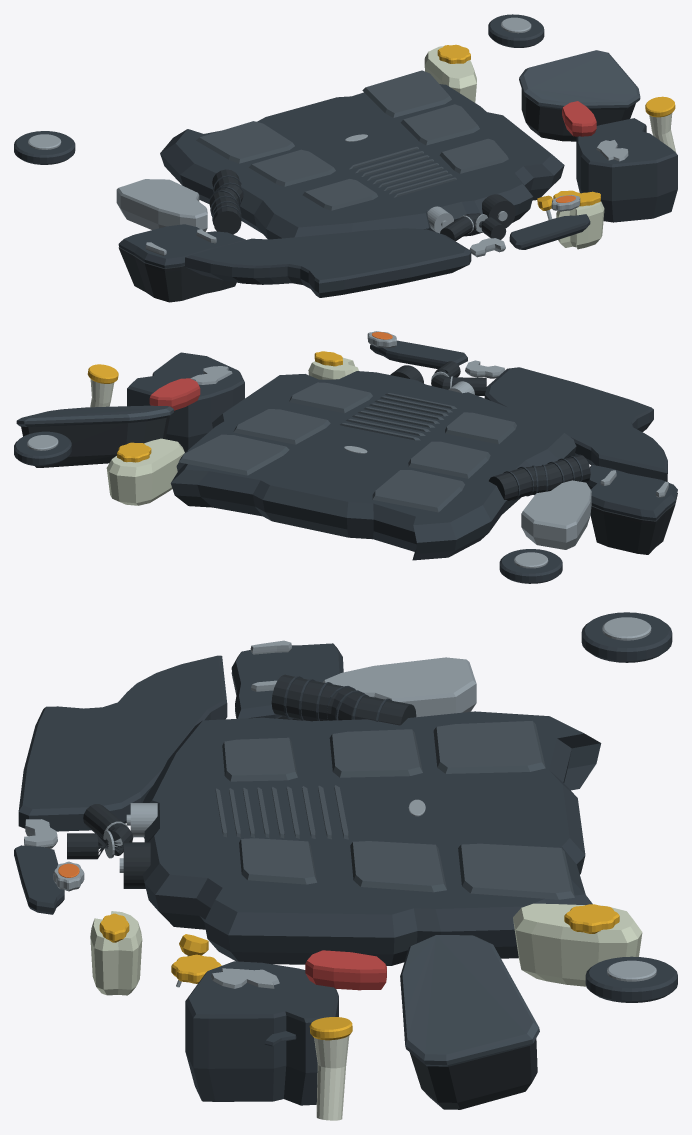
The model's file is outback-ez36.glb.
The picture shows the model from 3 angles, top to bottom: view 1: azimuth 30°, elevation 25°; view 2: azimuth 150°, elevation 25°; view 3: azimuth 270°, elevation 25°; orthographic projection. The views are drawn at different scales.
Visible parts, largest first — view 1: Cubierta del motor, Toma frontal de aire, Batería, Caja de fusibles del motor, Caja del filtro de aire, Unidad hidráulica ABS, Manguito de admisión, Copela delantera derecha, Cubierta del soporte del radiador, Copela delantera izquierda, Depósito de líquido de frenos, Depósito de refrigerante (+8 smaller); view 2: Cubierta del motor, Toma frontal de aire, Caja de fusibles del motor, Caja del filtro de aire, Batería, Unidad hidráulica ABS, Depósito de líquido de frenos, Manguito de admisión, Copela delantera derecha, Copela delantera izquierda, Cubierta del soporte del radiador, Borne positivo (+7 smaller); view 3: Cubierta del motor, Toma frontal de aire, Caja de fusibles del motor, Batería, Depósito de líquido de frenos, Unidad hidráulica ABS, Caja del filtro de aire, Manguito de admisión, Copela delantera derecha, Copela delantera izquierda, Sapito, Depósito de refrigerante (+10 smaller).
Part boxes in pixels (bbox=[...]): Cubierta del motor: bbox=[160, 70, 564, 239]; Toma frontal de aire: bbox=[185, 228, 471, 297]; Batería: bbox=[576, 118, 677, 222]; Caja de fusibles del motor: bbox=[519, 50, 640, 141]; Caja del filtro de aire: bbox=[118, 224, 245, 302]; Unidad hidráulica ABS: bbox=[116, 179, 207, 231]; Manguito de admisión: bbox=[209, 169, 244, 234]; Copela delantera derecha: bbox=[14, 131, 75, 164]; Cubierta del soporte del radiador: bbox=[509, 214, 590, 249]; Copela delantera izquierda: bbox=[488, 14, 544, 47]; Depósito de líquido de frenos: bbox=[424, 46, 476, 102]; Depósito de refrigerante: bbox=[556, 201, 604, 249]; Cubierta del motor: bbox=[170, 371, 576, 560]; Toma frontal de aire: bbox=[484, 367, 667, 481]; Caja de fusibles del motor: bbox=[16, 405, 173, 467]; Caja del filtro de aire: bbox=[585, 464, 677, 554]; Batería: bbox=[127, 352, 244, 452]; Unidad hidráulica ABS: bbox=[521, 480, 591, 549]; Depósito de líquido de frenos: bbox=[106, 438, 184, 505]; Manguito de admisión: bbox=[489, 454, 590, 500]; Copela delantera derecha: bbox=[499, 549, 562, 583]; Copela delantera izquierda: bbox=[14, 431, 71, 466]; Cubierta del soporte del radiador: bbox=[370, 340, 467, 368]; Borne positivo: bbox=[149, 378, 200, 410]; Cubierta del motor: bbox=[142, 711, 601, 965]; Toma frontal de aire: bbox=[18, 655, 227, 831]; Caja de fusibles del motor: bbox=[400, 935, 539, 1109]; Batería: bbox=[185, 961, 338, 1105]; Depósito de líquido de frenos: bbox=[513, 903, 642, 986]; Unidad hidráulica ABS: bbox=[322, 657, 476, 717]; Caja del filtro de aire: bbox=[231, 643, 343, 720]; Manguito de admisión: bbox=[271, 674, 416, 725]; Copela delantera derecha: bbox=[581, 612, 672, 662]; Copela delantera izquierda: bbox=[585, 956, 677, 1002]; Sapito: bbox=[309, 1017, 352, 1120]; Depósito de refrigerante: bbox=[90, 911, 142, 995].
Bounding box in the file's own units: 1.02 × 0.1481 × 0.7089.
